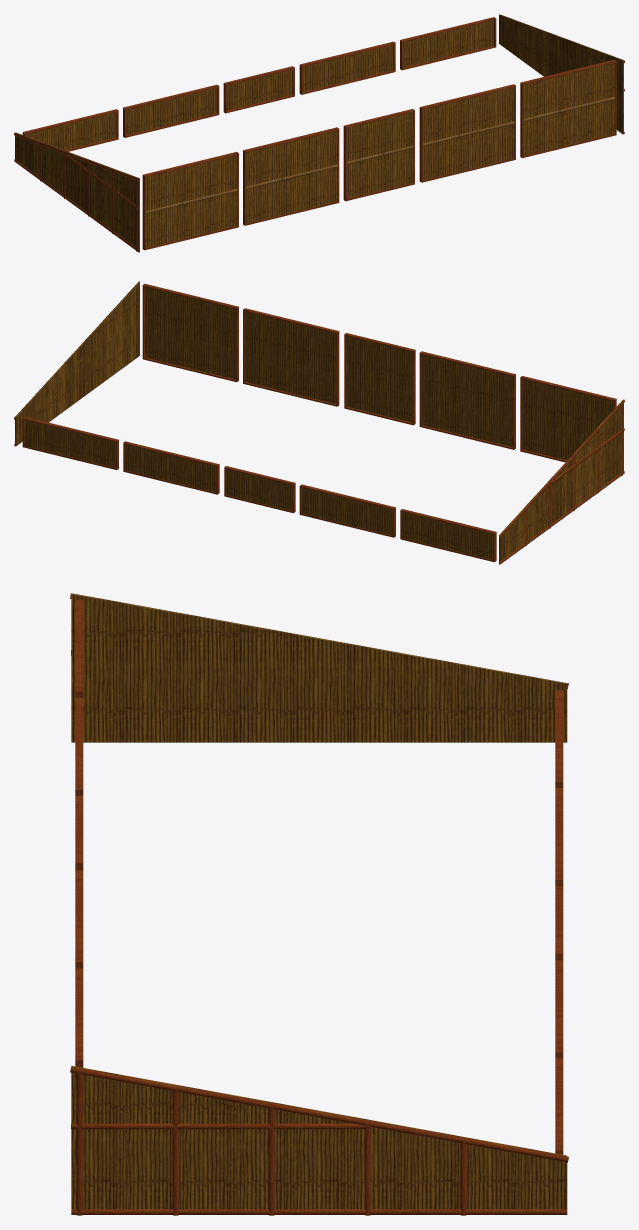
File: 10 PROTECTOR CUBIERTA.glb
3 views of the same model, one above another, from view 1: azimuth 30°, elevation 25°; view 2: azimuth 150°, elevation 25°; view 3: azimuth 270°, elevation 25° (orthographic). The views are drawn at different scales.
Visible parts, largest first — view 1: Panel-cercha-01#1 (×4), Panel-cercha-03 (×4), 150188 (×2), Panel-cercha-02#2, Panel-cercha-04#1, MARCO_MODULOS-VERT#37, MARCO_MODULOS-VERT#38; view 2: Panel-cercha-01#1 (×4), Panel-cercha-03 (×4), 150188 (×2), Panel-cercha-02#2, Panel-cercha-04#1, MARCO_MODULOS-VERT#37, MARCO_MODULOS-VERT#38; view 3: 150188 (×2), Panel-cercha-01#1 (×4), Panel-cercha-03 (×4), MARCO_MODULOS-VERT#37, MARCO_MODULOS-VERT#38, MARCO_MODULOS-VERT#88, MARCO_MODULOS-VERT#39, MARCO_MODULOS-VERT#44.
Boxes of the visible parts, x1=… form: Panel-cercha-01#1 (×4): x1=142, y1=59, x2=616, y2=250; Panel-cercha-03 (×4): x1=22, y1=17, x2=496, y2=151; 150188 (×2): x1=15, y1=14, x2=623, y2=252; Panel-cercha-02#2: x1=343, y1=109, x2=414, y2=201; Panel-cercha-04#1: x1=223, y1=66, x2=294, y2=113; MARCO_MODULOS-VERT#37: x1=14, y1=132, x2=138, y2=181; MARCO_MODULOS-VERT#38: x1=14, y1=159, x2=138, y2=252; Panel-cercha-01#1 (×4): x1=142, y1=283, x2=616, y2=462; Panel-cercha-03 (×4): x1=22, y1=417, x2=496, y2=562; 150188 (×2): x1=15, y1=281, x2=623, y2=564; Panel-cercha-02#2: x1=344, y1=333, x2=415, y2=425; Panel-cercha-04#1: x1=224, y1=466, x2=295, y2=513; MARCO_MODULOS-VERT#37: x1=500, y1=400, x2=624, y2=537; MARCO_MODULOS-VERT#38: x1=500, y1=471, x2=624, y2=564; 150188 (×2): x1=71, y1=593, x2=567, y2=1209; Panel-cercha-01#1 (×4): x1=75, y1=599, x2=83, y2=1067; Panel-cercha-03 (×4): x1=555, y1=690, x2=563, y2=1154; MARCO_MODULOS-VERT#37: x1=70, y1=1066, x2=568, y2=1162; MARCO_MODULOS-VERT#38: x1=71, y1=1209, x2=567, y2=1214; MARCO_MODULOS-VERT#88: x1=71, y1=1123, x2=370, y2=1129; MARCO_MODULOS-VERT#39: x1=76, y1=1072, x2=82, y2=1215; MARCO_MODULOS-VERT#44: x1=172, y1=1089, x2=178, y2=1215.
Size of the model in its own units: 7.02 by 1.02 by 3.12.
418 materials, 418 textured.
